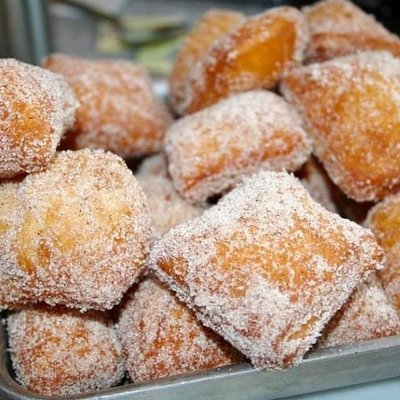salad: (147, 170, 389, 371), (3, 148, 153, 315), (163, 90, 313, 209), (40, 52, 172, 161), (0, 57, 78, 183), (133, 152, 205, 240)
